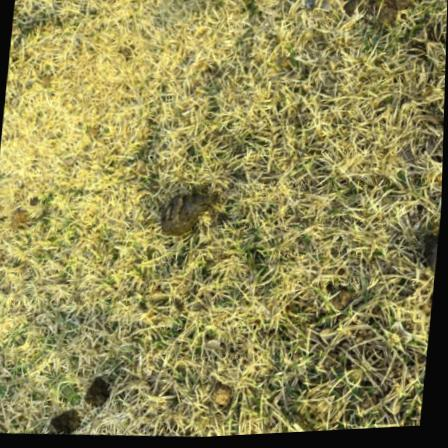dog-poop: (157, 187, 215, 249)
